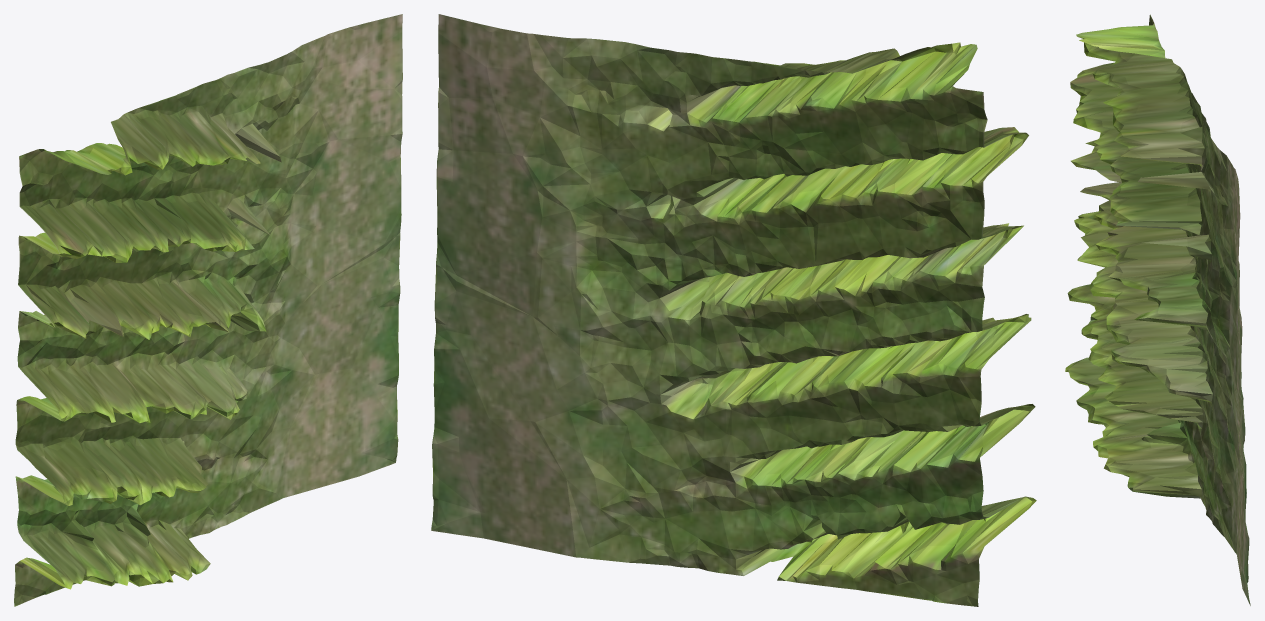
Rendered from map_240_10.obj.
The picture shows the model from 3 angles, left to right: view 1: azimuth 30°, elevation 25°; view 2: azimuth 150°, elevation 25°; view 3: azimuth 270°, elevation 25°; orthographic projection. The views are drawn at different scales.
Parts seen in each view (by area): view 1: grp1; view 2: grp1; view 3: grp1.
Part boxes in pixels (bbox=[...]): grp1: bbox=[14, 14, 402, 606]; grp1: bbox=[431, 14, 1036, 606]; grp1: bbox=[1065, 14, 1250, 605].
Bounding box in the file's own units: 10 × 10 × 4.17.
1 material, 1 textured.
